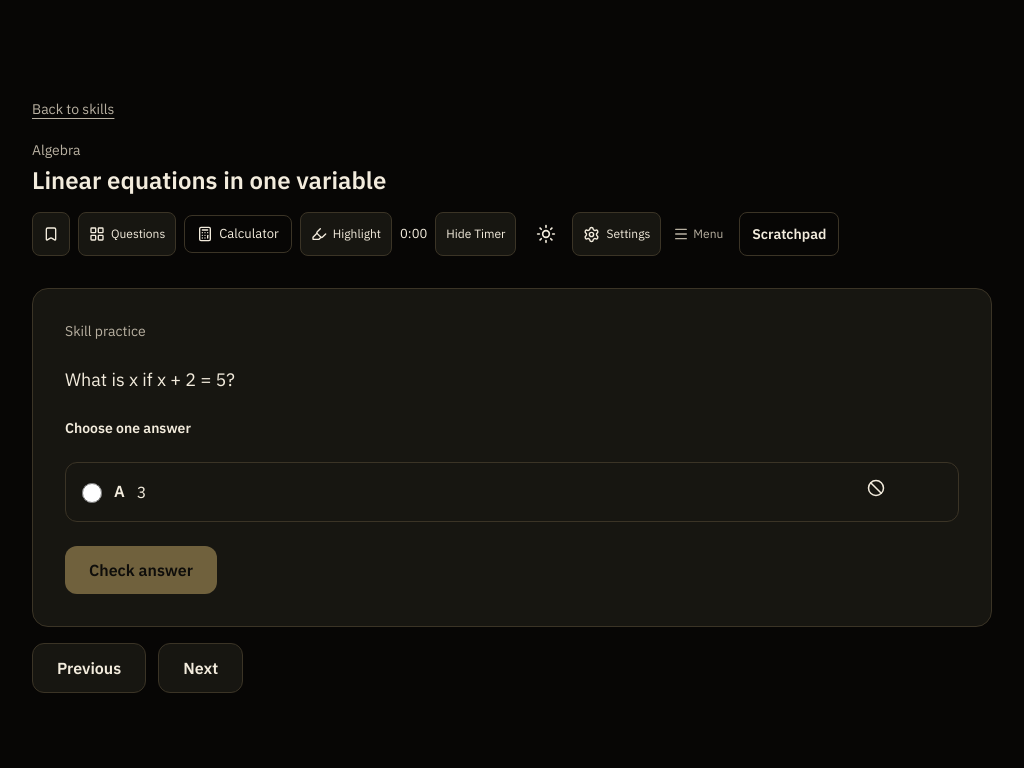
Test: canonical student practice › does not double-submit; waits for saved feedback, then finishes the actual session
Click the radio button named "Choice A" at (92, 493), box [82, 483, 102, 503]
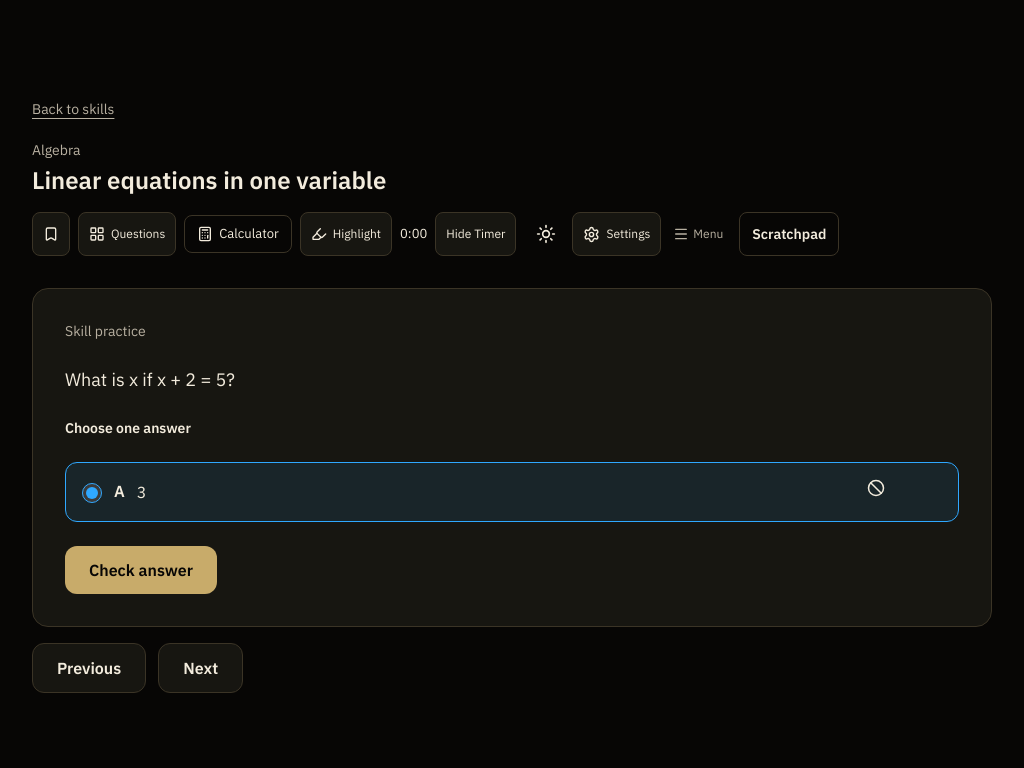
Submit the form "Check answer", box [65, 546, 217, 594]
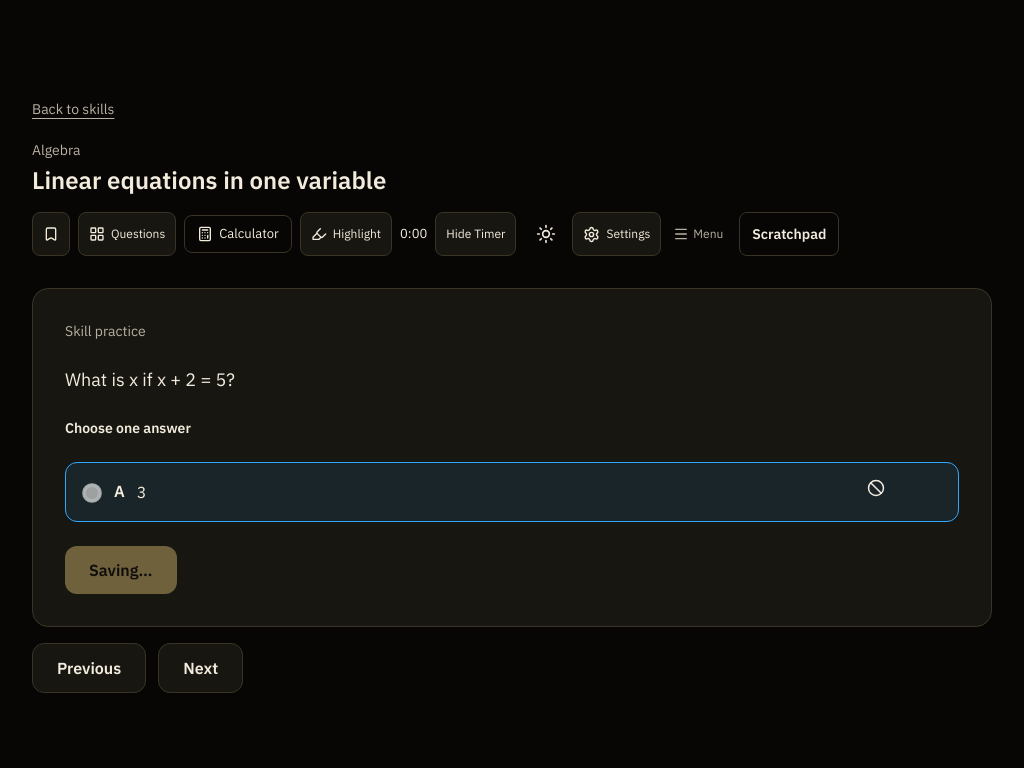
Submit the form named "Check answer", box [65, 546, 176, 594]
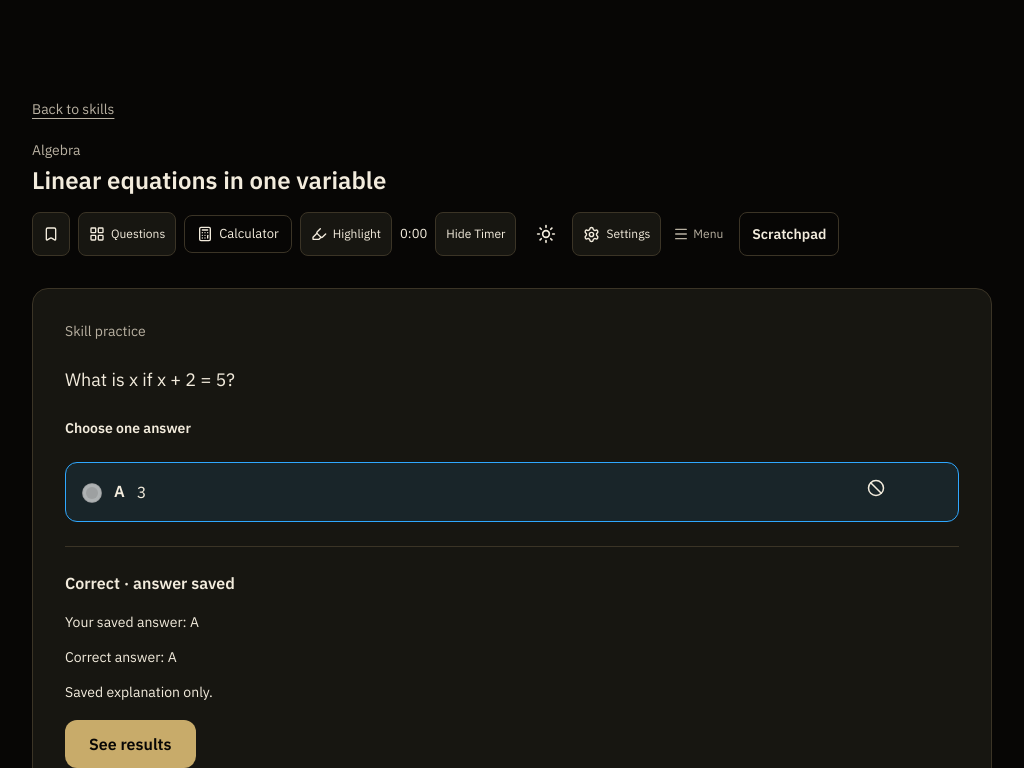
Now the heading "Correct · answer saved" is shown, box [65, 573, 235, 593]
Now the text "Saved explanation only." is shown, box [65, 683, 213, 701]
Click the button "See results" at (130, 744), box [65, 720, 196, 767]
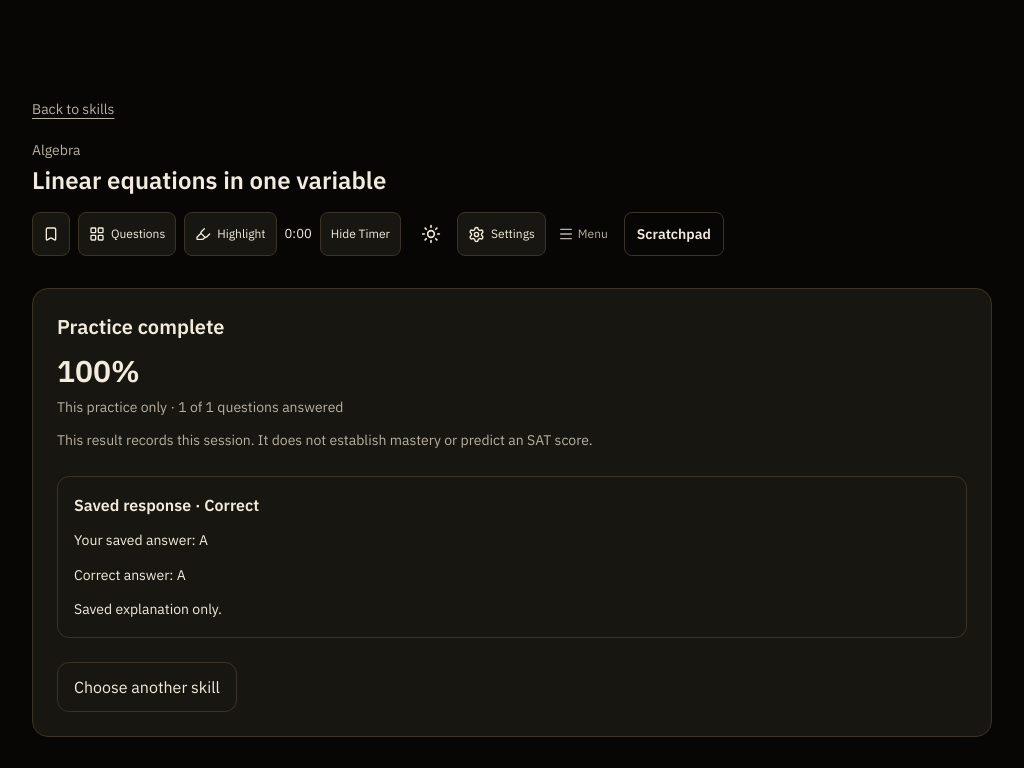
Now the heading "Practice complete" is shown, box [57, 313, 224, 340]
Now the text "This practice only · 1 of 1 questions answered" is shown, box [57, 398, 344, 416]
Now the text "does not establish mastery" is shown, box [57, 431, 592, 449]
